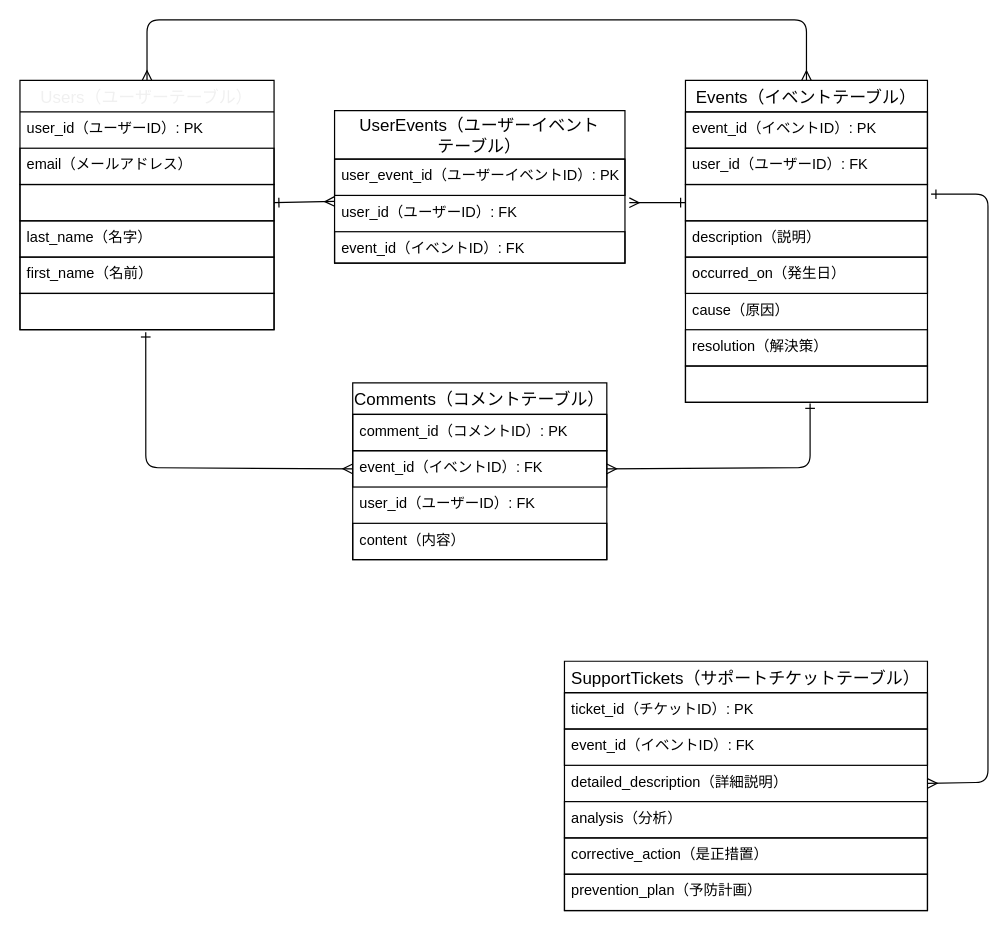
The diagram is 1008 pixels wide and 930 high, and some of its shapes have lost their labels. The shapes that lost their labels are listed below. From the top down, each one's centre as x and y in pixels, then its label:
point (146, 202): encrypted_password（パスワード）
point (805, 202): title（タイトル）
point (146, 311): affiliation（所属）
point (805, 383): prevention（予防策）
